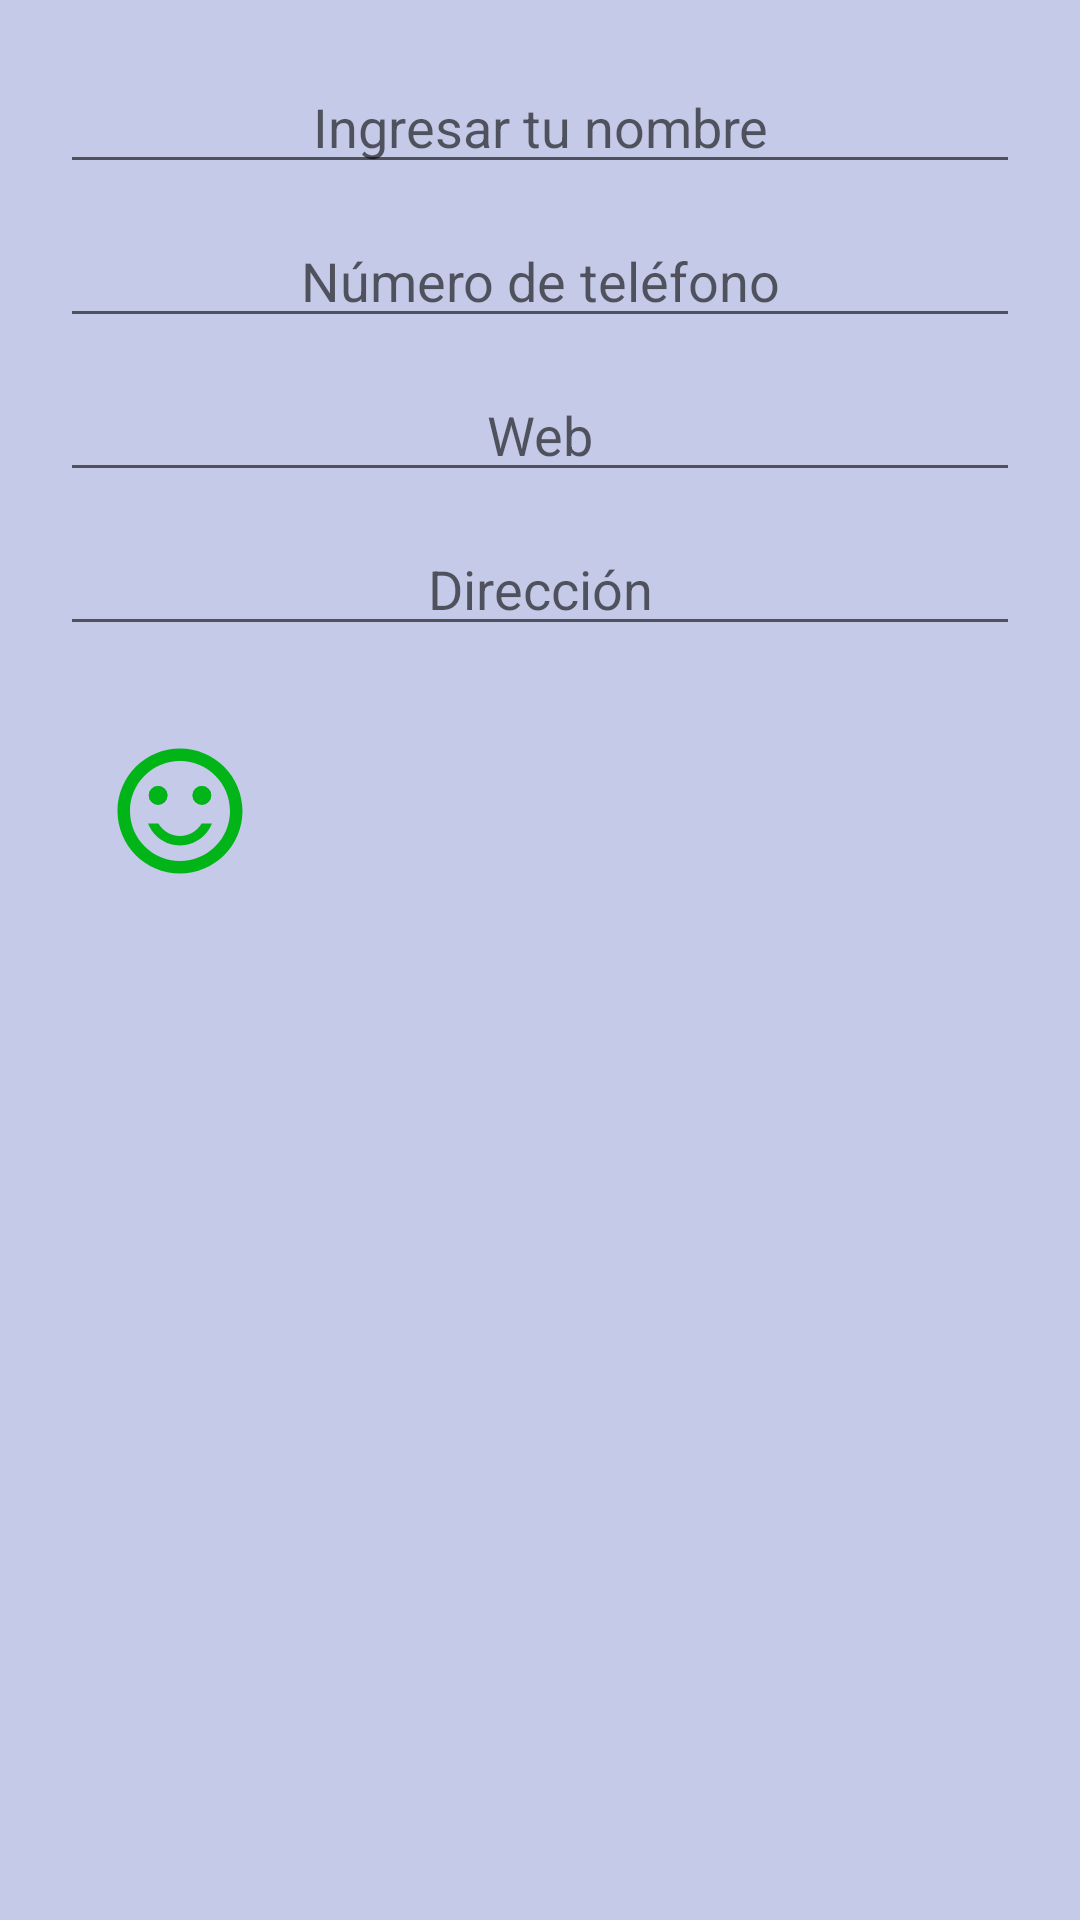

Where to tap for icons on this 1080px x 1920px app screen, as (x=x, y=y):
happy: (x=180, y=811)
